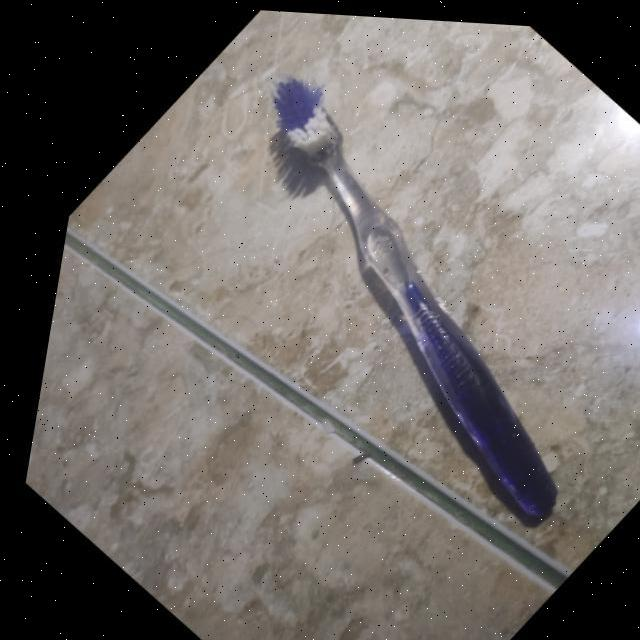toothbrush: (238, 59, 562, 538)
